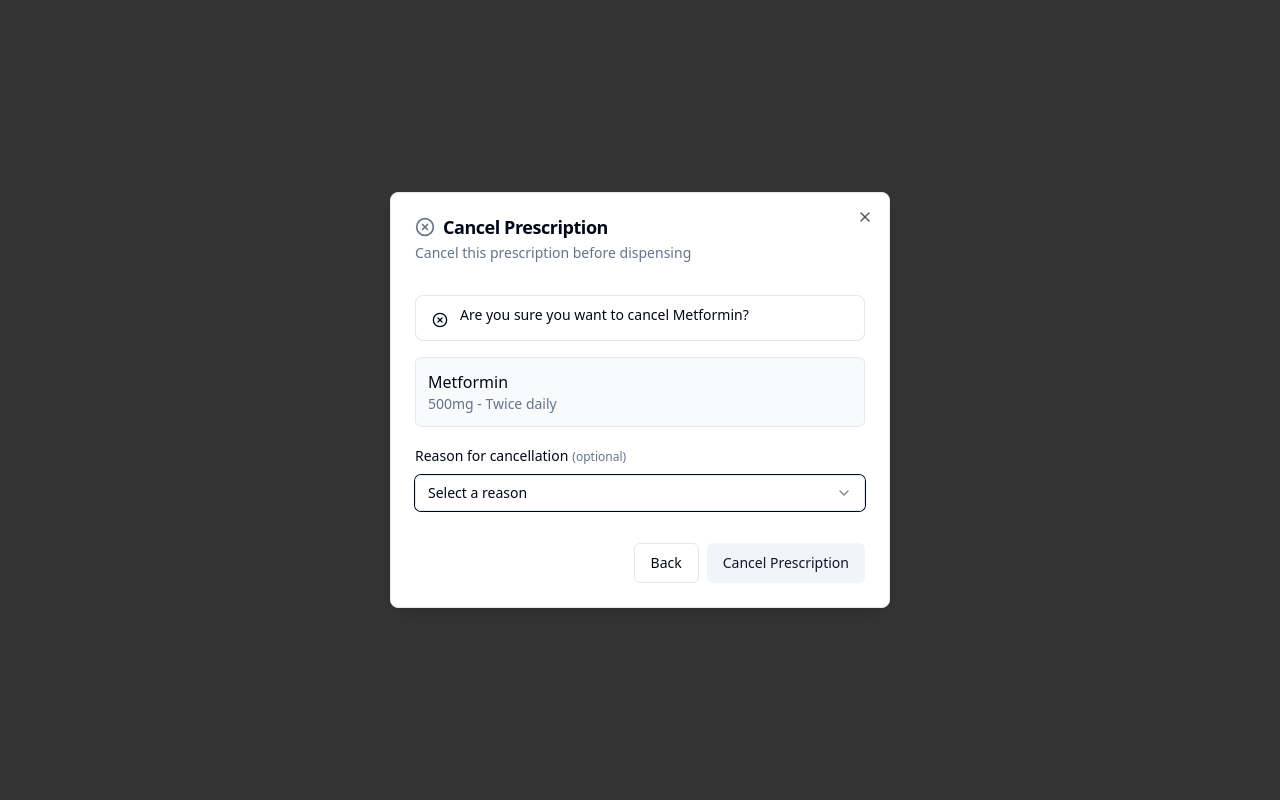
CancelDialog › Reason Selection › shows custom reason textarea when Other is selected
This screenshot has width=1280, height=800.
Click the dropdown. click: click(478, 492)
box: [415,475,865,511]
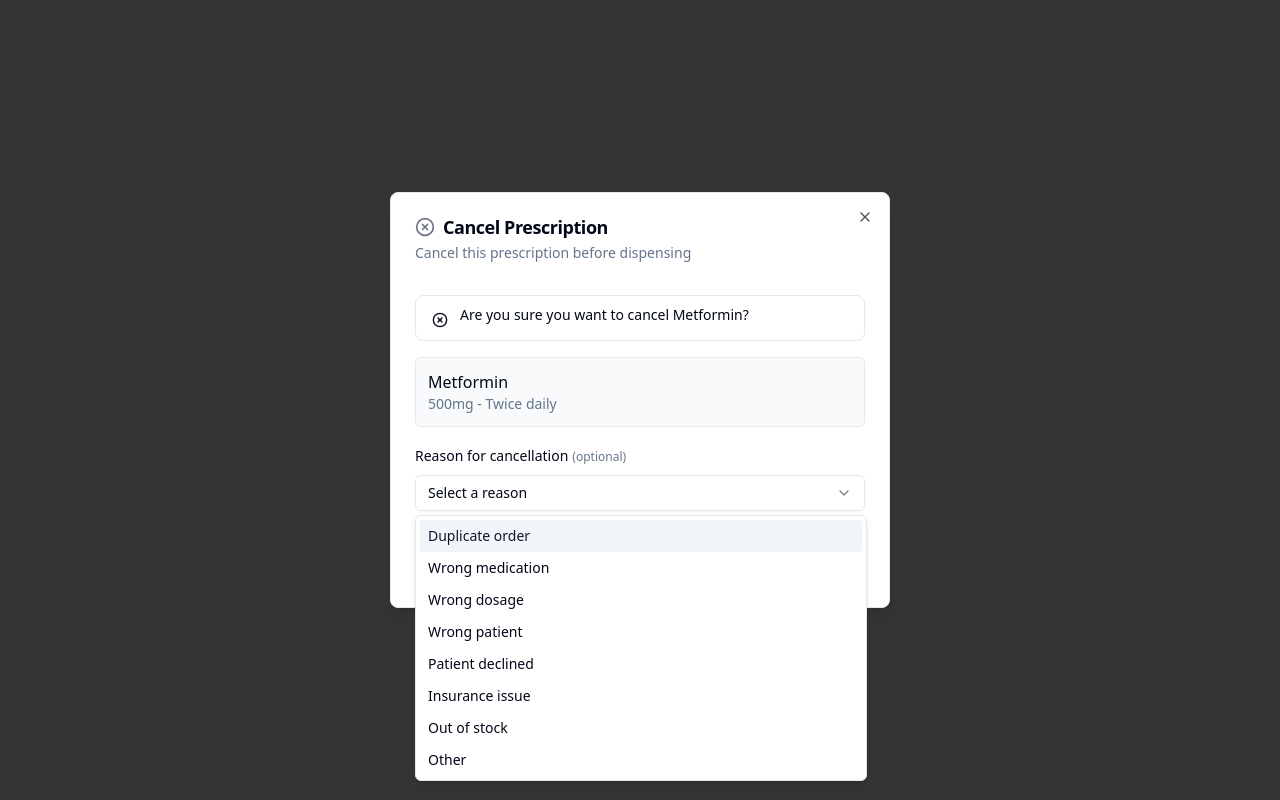
Expected: the text "Other" is shown
Click the option "Other". click: click(447, 760)
box: [428,750,466,769]
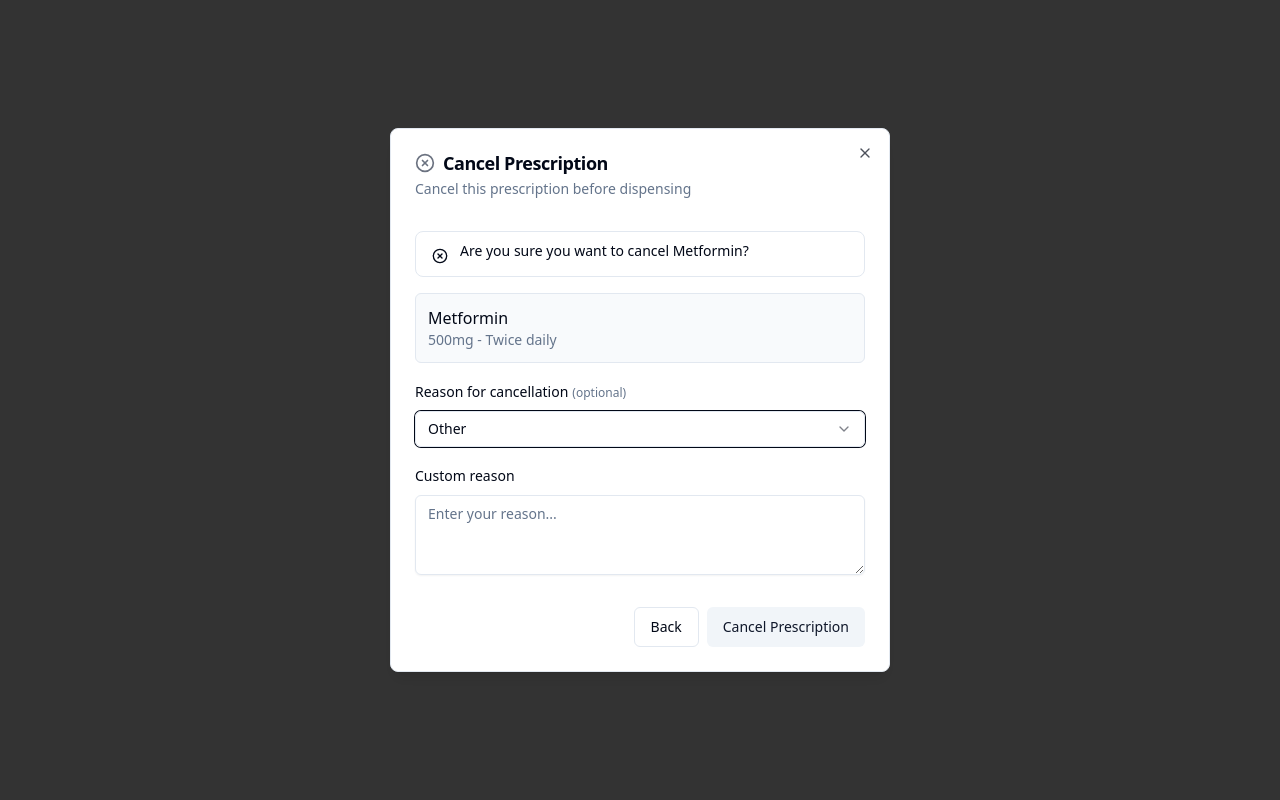
Expected: the text "Custom reason" is shown, [415,466,514,485]
Expected: the text box with placeholder "Enter your reason..." is shown, [415,495,865,575]
